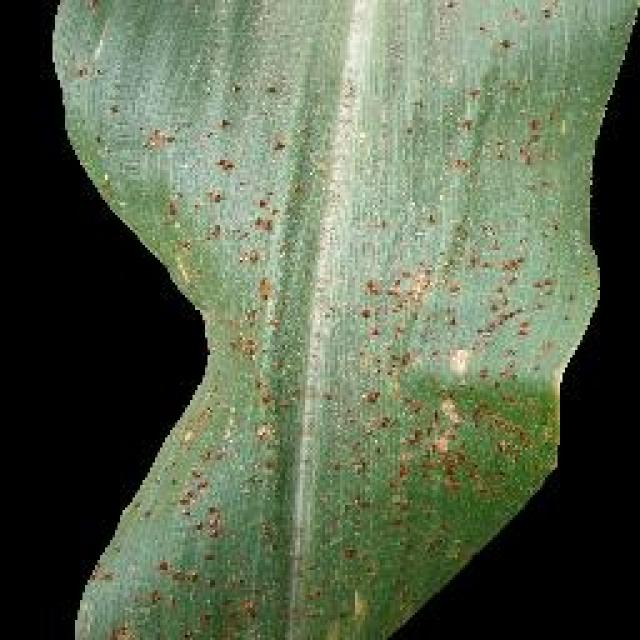Corn Common Rust: (153, 93, 477, 575)
